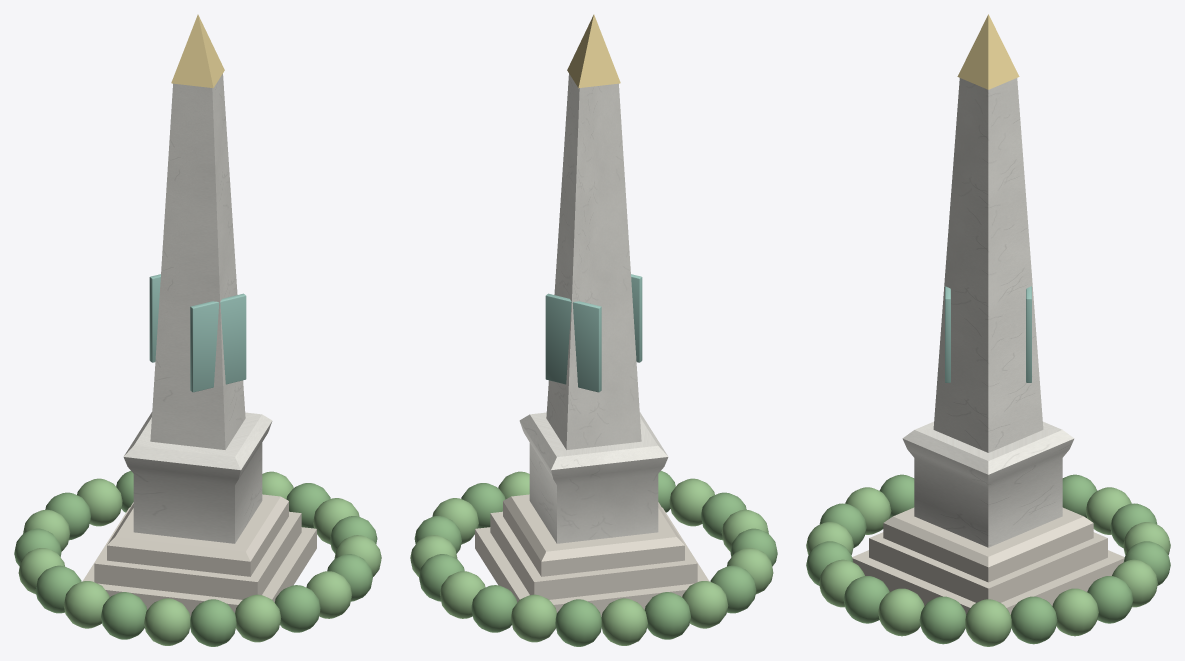
File: th36_obelisk.glb
The picture shows the model from 3 angles, left to right: view 1: azimuth 30°, elevation 25°; view 2: azimuth 150°, elevation 25°; view 3: azimuth 270°, elevation 25°; orthographic projection.
Parts seen in each view (by area): view 1: Schaft, Stufen, Postament, Cube, Spitze, Sphere.015, Sphere.014, Sphere.016, Sphere.013, Sphere.017, Sphere.012, Sphere.006 (+13 smaller); view 2: Schaft, Stufen, Postament, Cube.001, Spitze, Sphere.007, Sphere.008, Sphere.006, Sphere.009, Sphere.005, Sphere.010, Sphere.016 (+13 smaller); view 3: Schaft, Stufen, Postament, Spitze, Sphere, Sphere.001, Sphere.021, Sphere.002, Sphere.020, Sphere.003, Sphere.019, Sphere.004 (+13 smaller).
Part boxes in pixels (<box>): Schaft: <box>150,74,245,449</box>; Stufen: <box>82,494,316,616</box>; Postament: <box>123,412,272,543</box>; Cube: <box>190,293,246,392</box>; Spitze: <box>171,14,224,88</box>; Sphere.015: <box>190,599,236,646</box>; Sphere.014: <box>144,598,190,645</box>; Sphere.016: <box>235,594,281,642</box>; Sphere.013: <box>101,592,147,639</box>; Sphere.017: <box>274,585,320,632</box>; Sphere.012: <box>63,581,109,628</box>; Sphere.006: <box>77,478,122,526</box>; Schaft: <box>546,74,641,449</box>; Stufen: <box>475,494,709,616</box>; Postament: <box>519,412,668,543</box>; Cube.001: <box>545,293,601,392</box>; Spitze: <box>567,14,620,88</box>; Sphere.007: <box>555,599,601,646</box>; Sphere.008: <box>601,598,647,645</box>; Sphere.006: <box>510,594,556,642</box>; Sphere.009: <box>644,592,690,639</box>; Sphere.005: <box>471,585,517,632</box>; Sphere.010: <box>682,581,728,628</box>; Sphere.016: <box>669,478,714,526</box>; Schaft: <box>933,78,1043,452</box>; Stufen: <box>852,507,1124,614</box>; Postament: <box>902,421,1074,547</box>; Spitze: <box>957,14,1019,89</box>; Sphere: <box>965,599,1011,646</box>; Sphere.001: <box>1010,596,1057,644</box>; Sphere.021: <box>919,596,966,644</box>; Sphere.002: <box>1052,588,1098,636</box>; Sphere.020: <box>878,588,924,636</box>; Sphere.003: <box>1087,576,1133,623</box>; Sphere.019: <box>843,576,889,623</box>; Sphere.004: <box>1112,559,1157,607</box>.
Size of the model in its own units: 3.08 by 5.2 by 3.05.
Materials: 6 (1 with a texture image).
